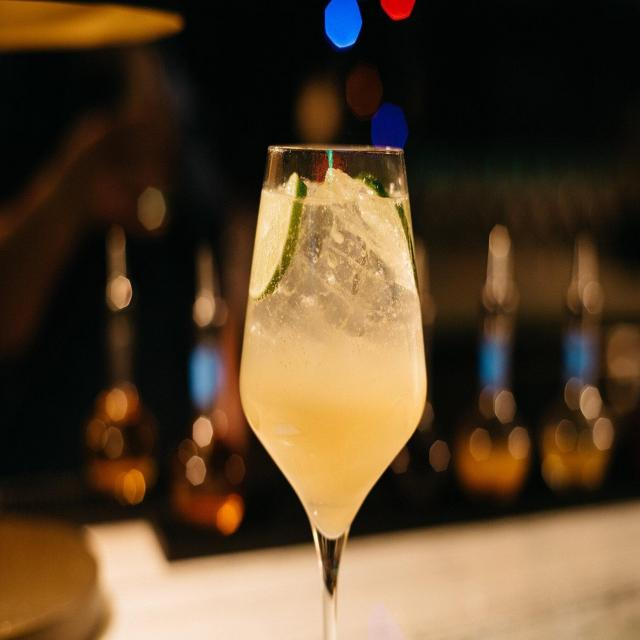glass-wine: (236, 142, 428, 638)
